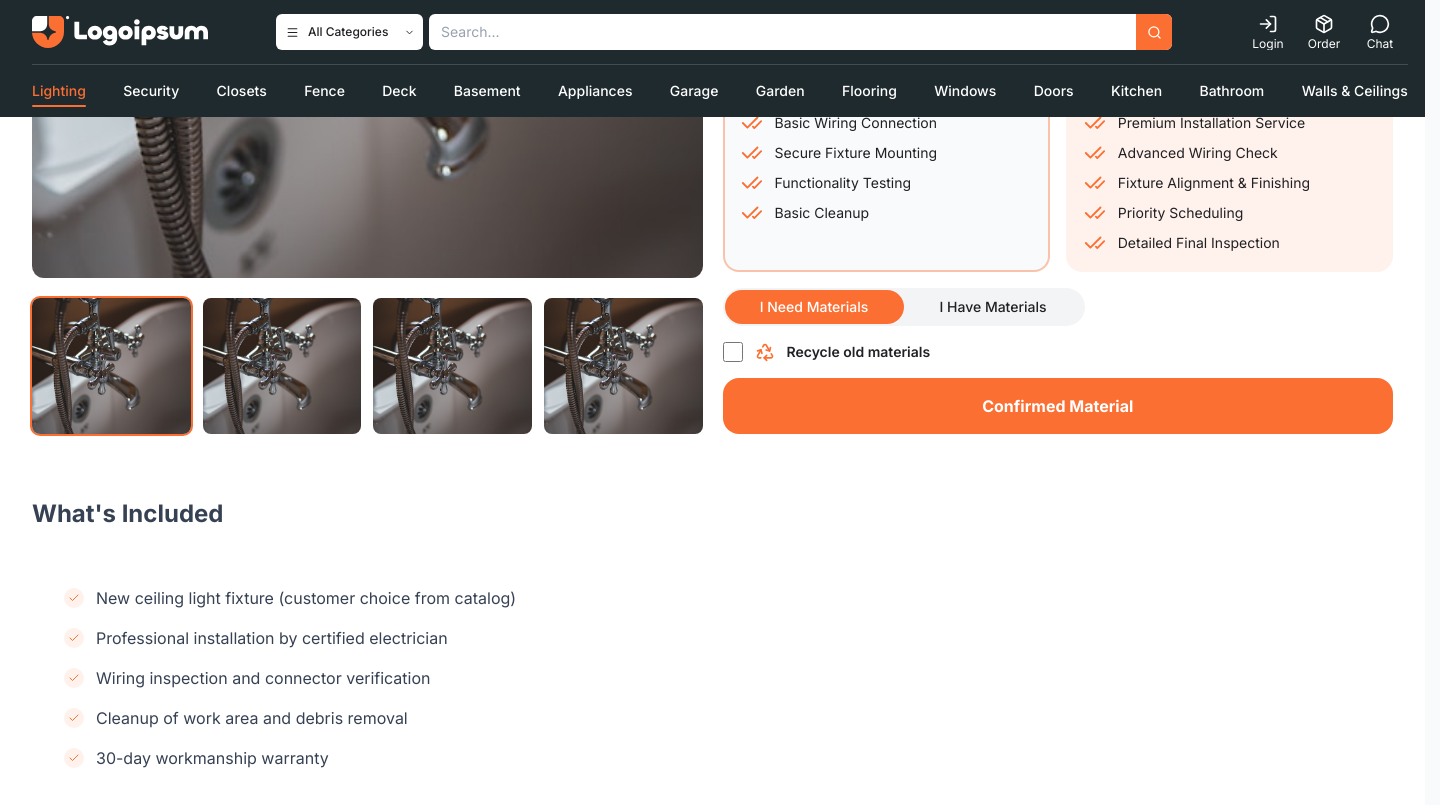
Scenario: Service details chat › closes Preferred Contact Method and chat when switching to I Have Materials
(page scrolled)
What coordinates should you click on to do the following:
click the button "Confirmed Material"
I would click on:
 (1058, 406)
Its box is [722,378,1393,434].
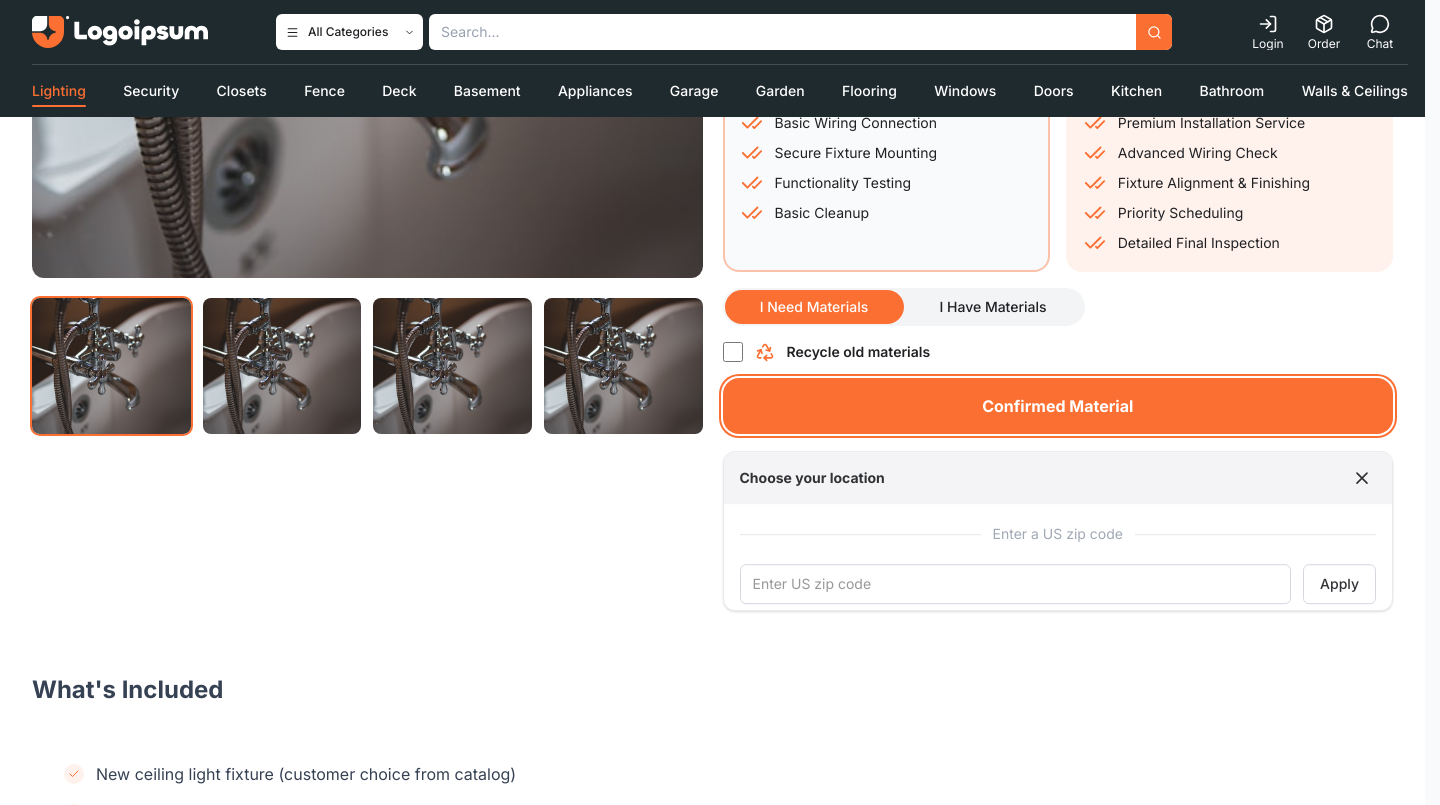
Expected: the button "Apply" is shown
What coordinates should you click on to do the following:
click the button "Apply"
I would click on:
 (1340, 584)
Its box is [1303,564,1376,604].
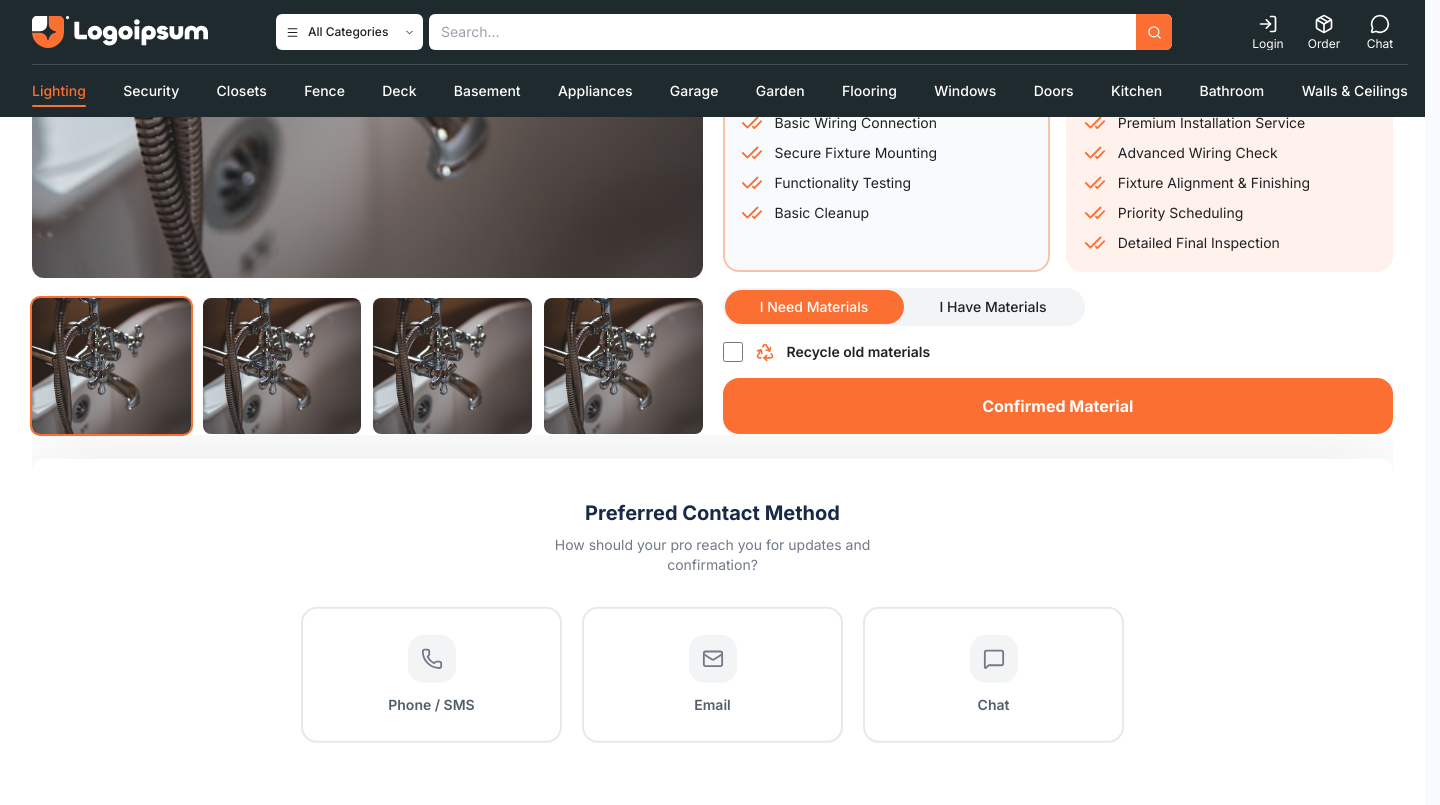
Expected: the element "Preferred Contact Method" is shown, [32,458,1393,764]
What coordinates should you click on to do the following:
click the radio button labelled "Chat"
I would click on:
 (994, 674)
Its box is [863,606,1124,742].
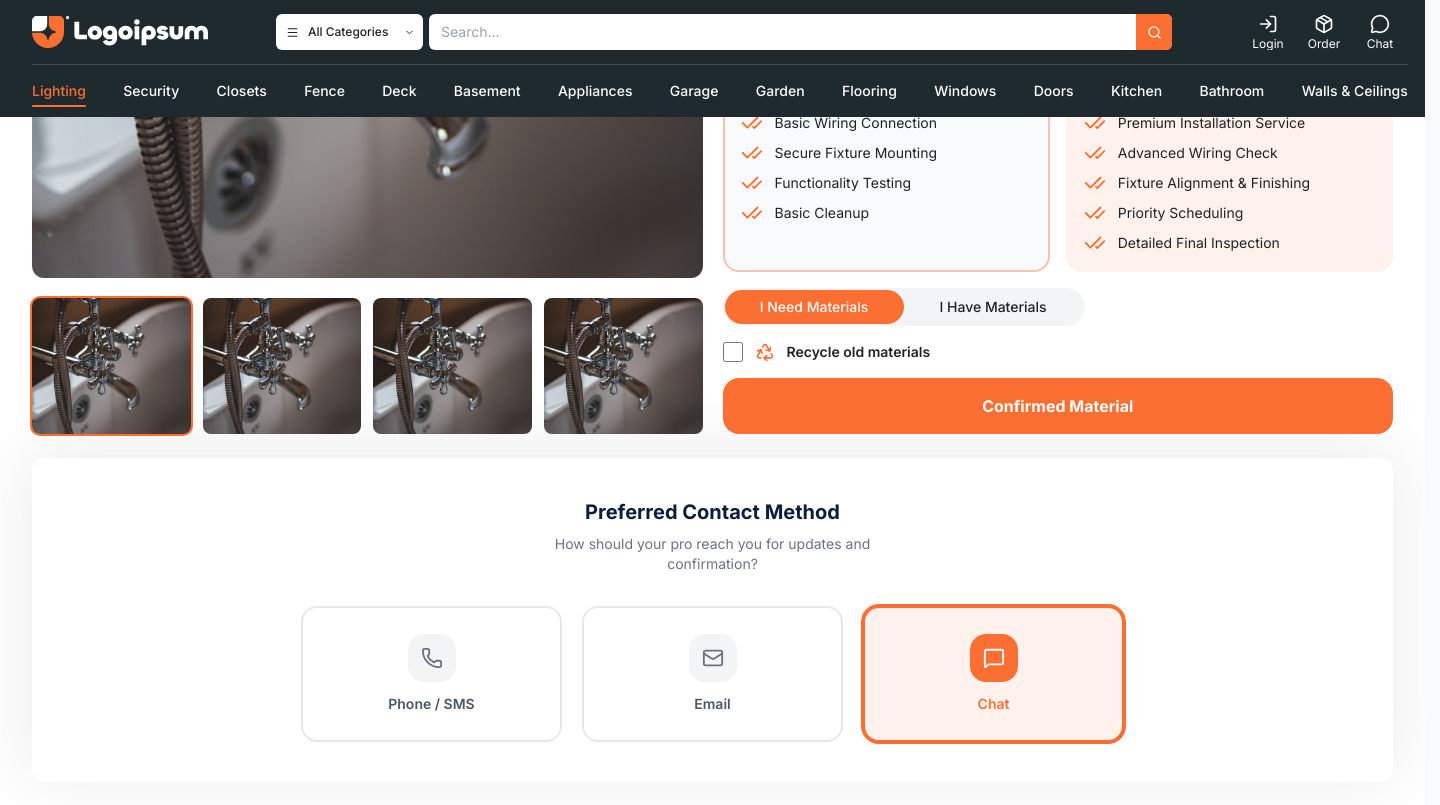
Expected: the element "Preferred Contact Method" is shown, [32,458,1393,782]
What coordinates should you click on to do the following:
click the button "I Have Materials"
I would click on:
 (993, 307)
Its box is [904,290,1082,324].
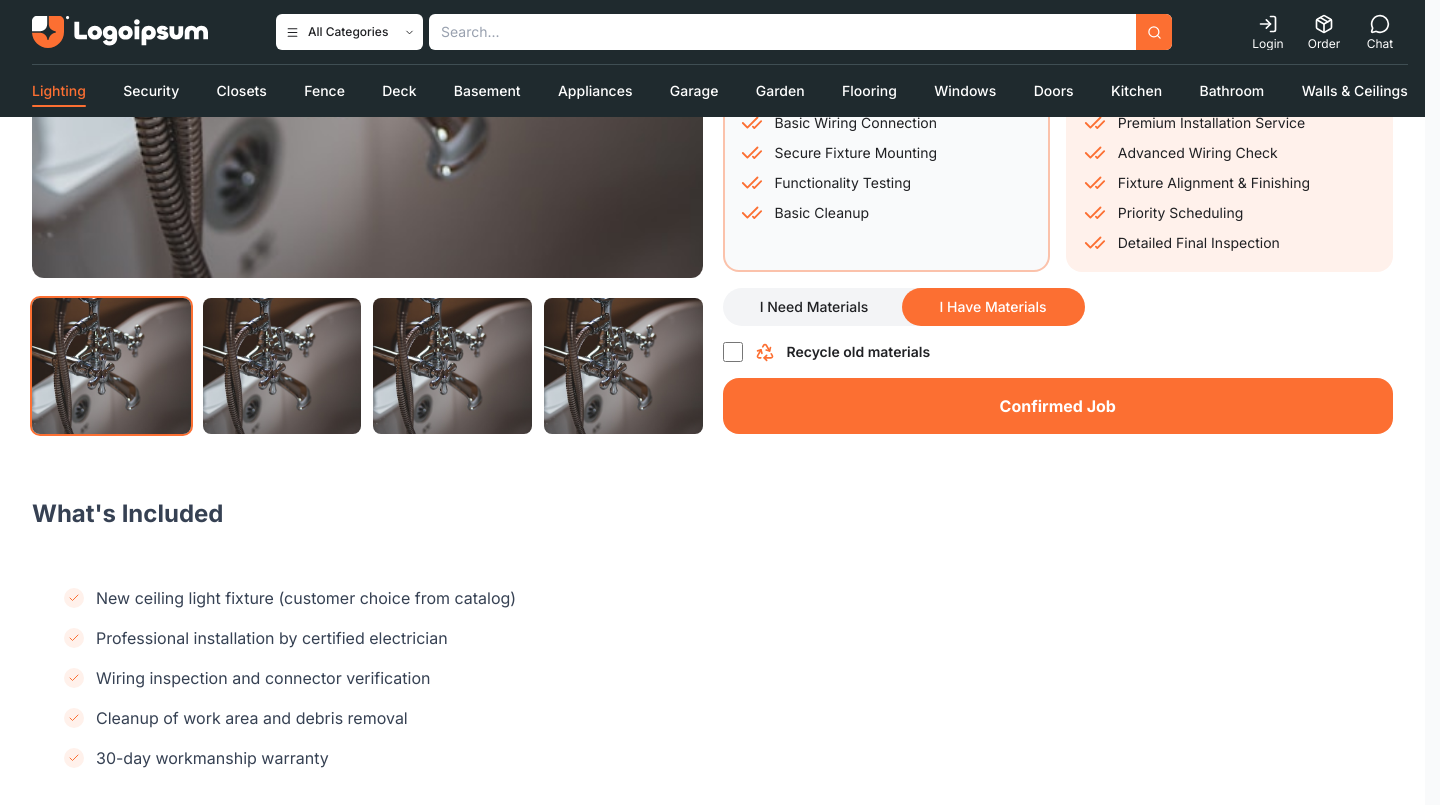
Expected: the heading "Preferred Contact Method" is gone
